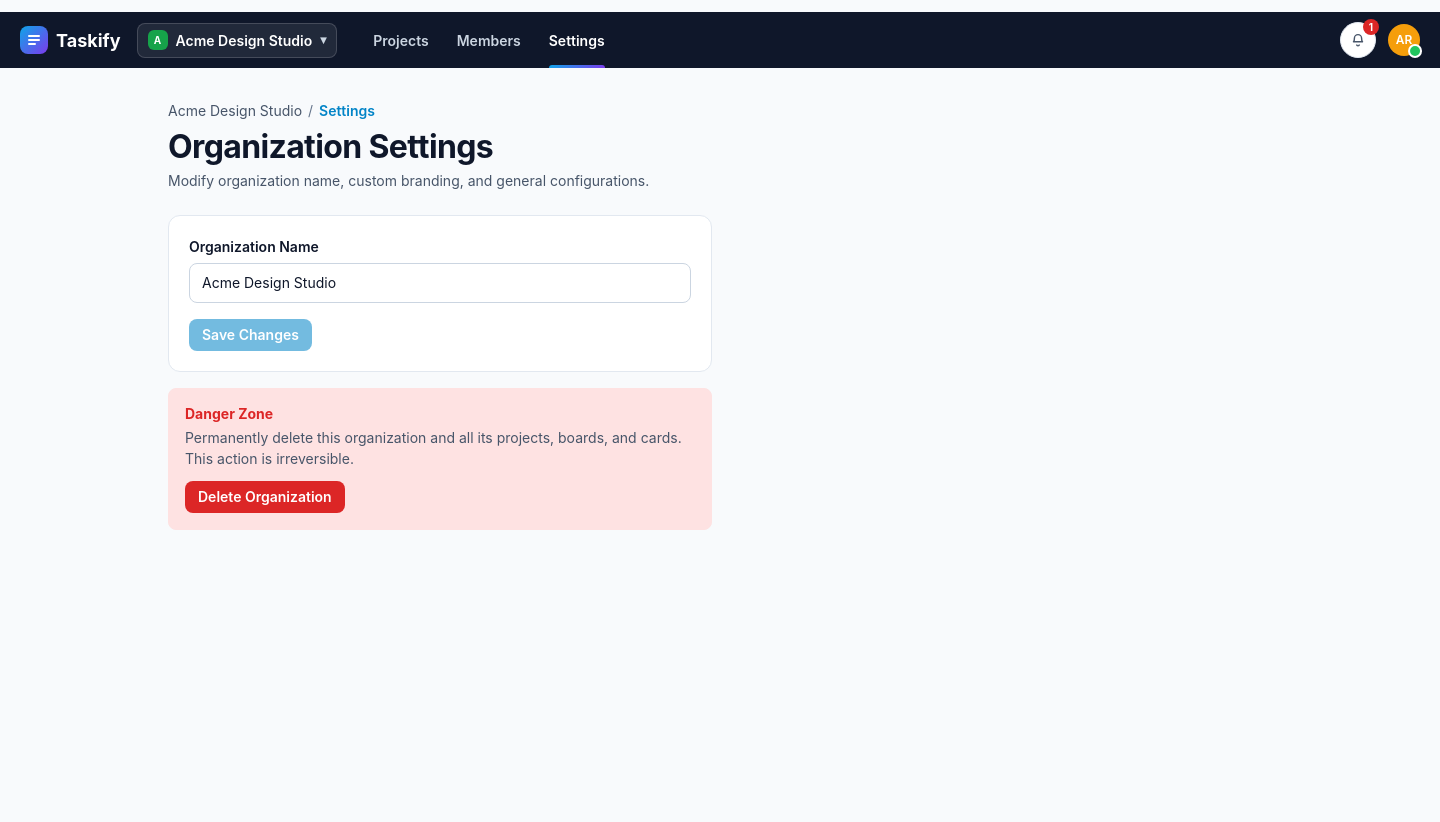
it: OrgSettingsPage › saves a new organization name and shows a toast
Replace the text in the field labelled "Organization Name" with "Acme Studios" at (440, 283), box [202,265,678,301]
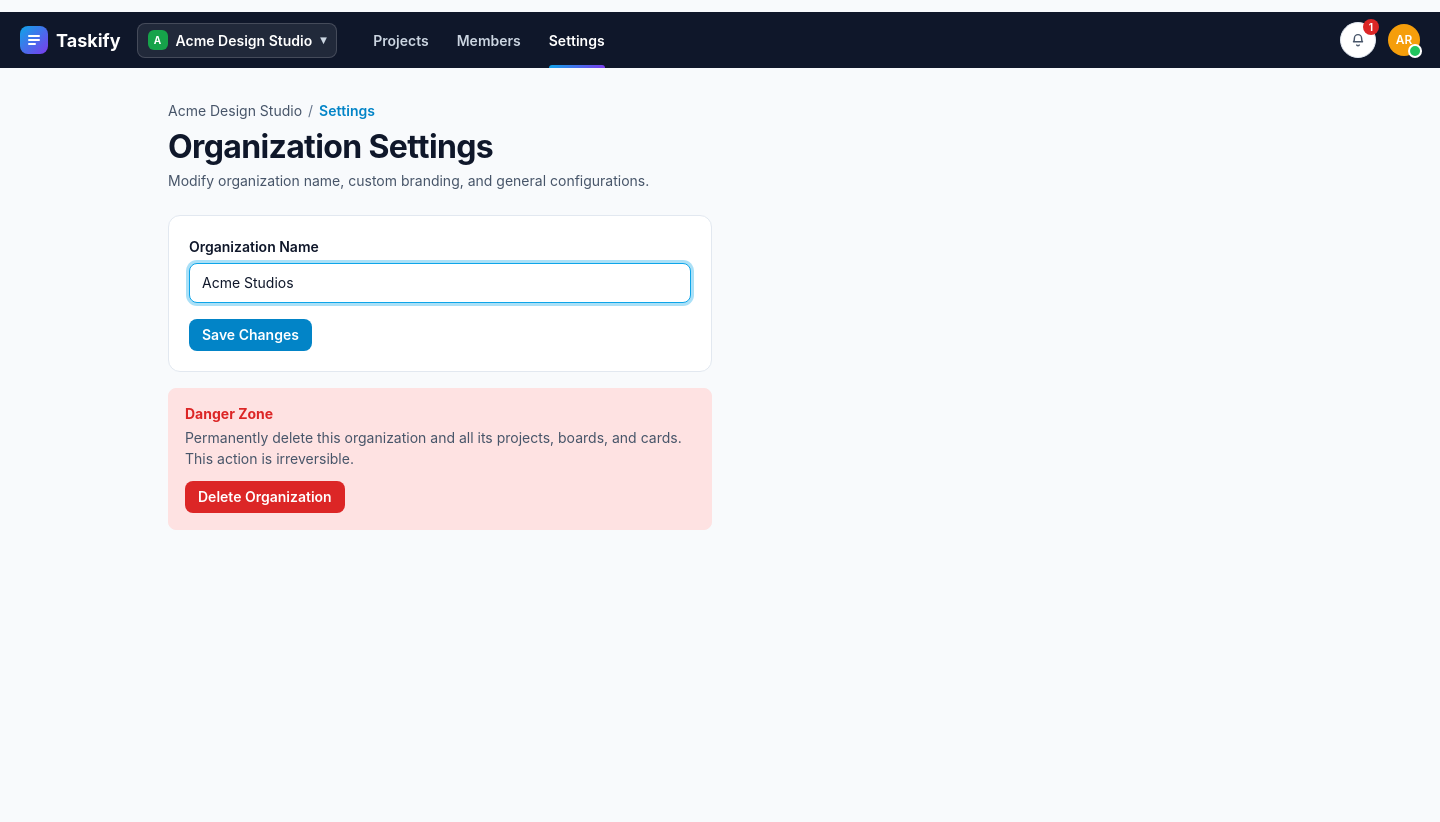
Click the button "Save Changes" at (250, 335), box [189,319,312,351]
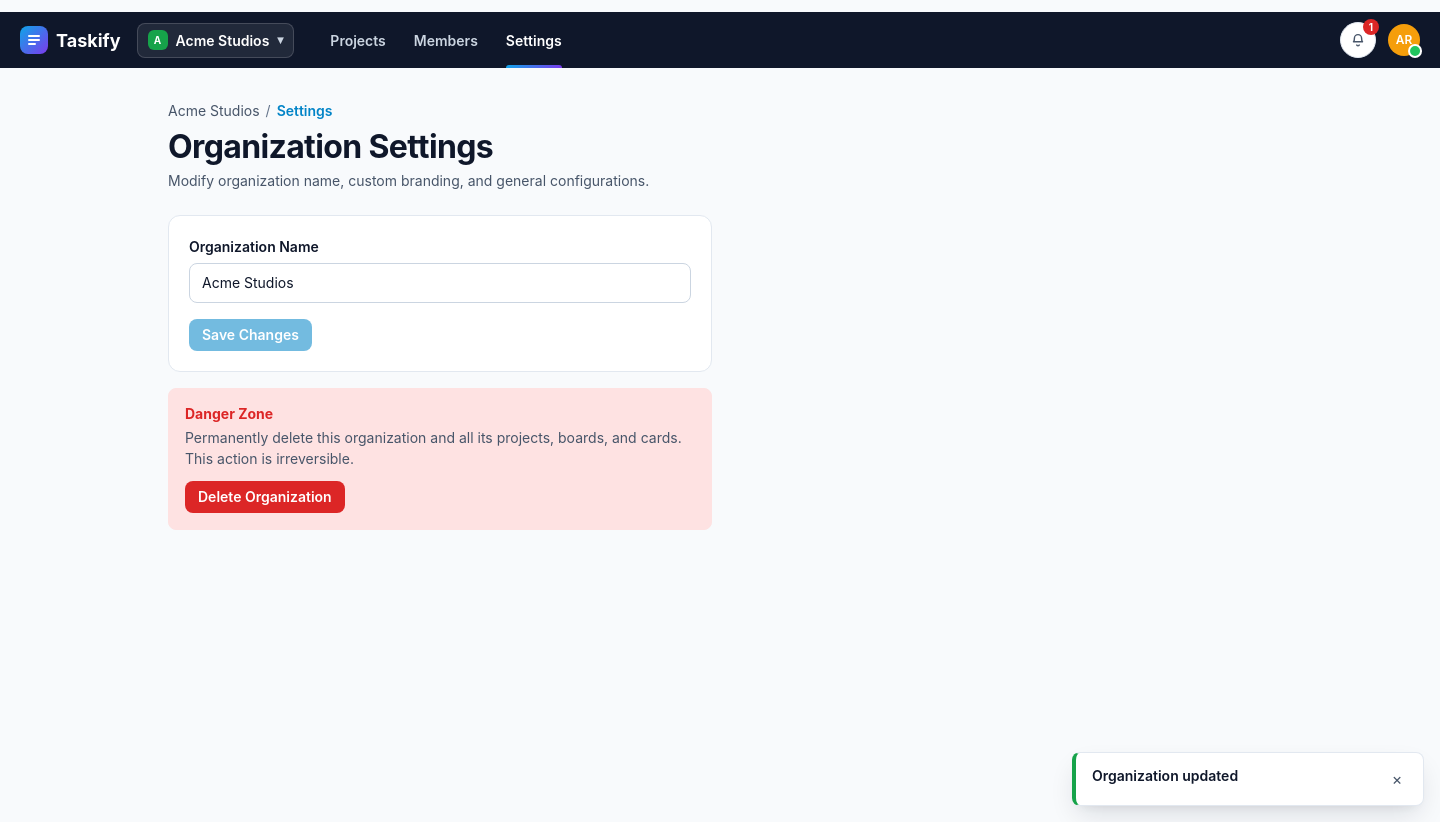
expect the text "Organization updated" is shown: met, box [1092,767,1238,784]
